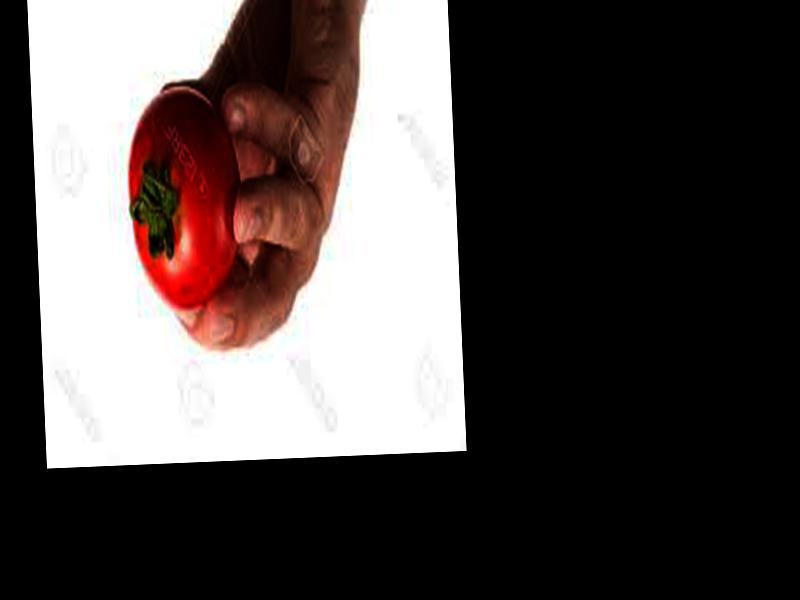Tomato: (124, 86, 243, 311)
